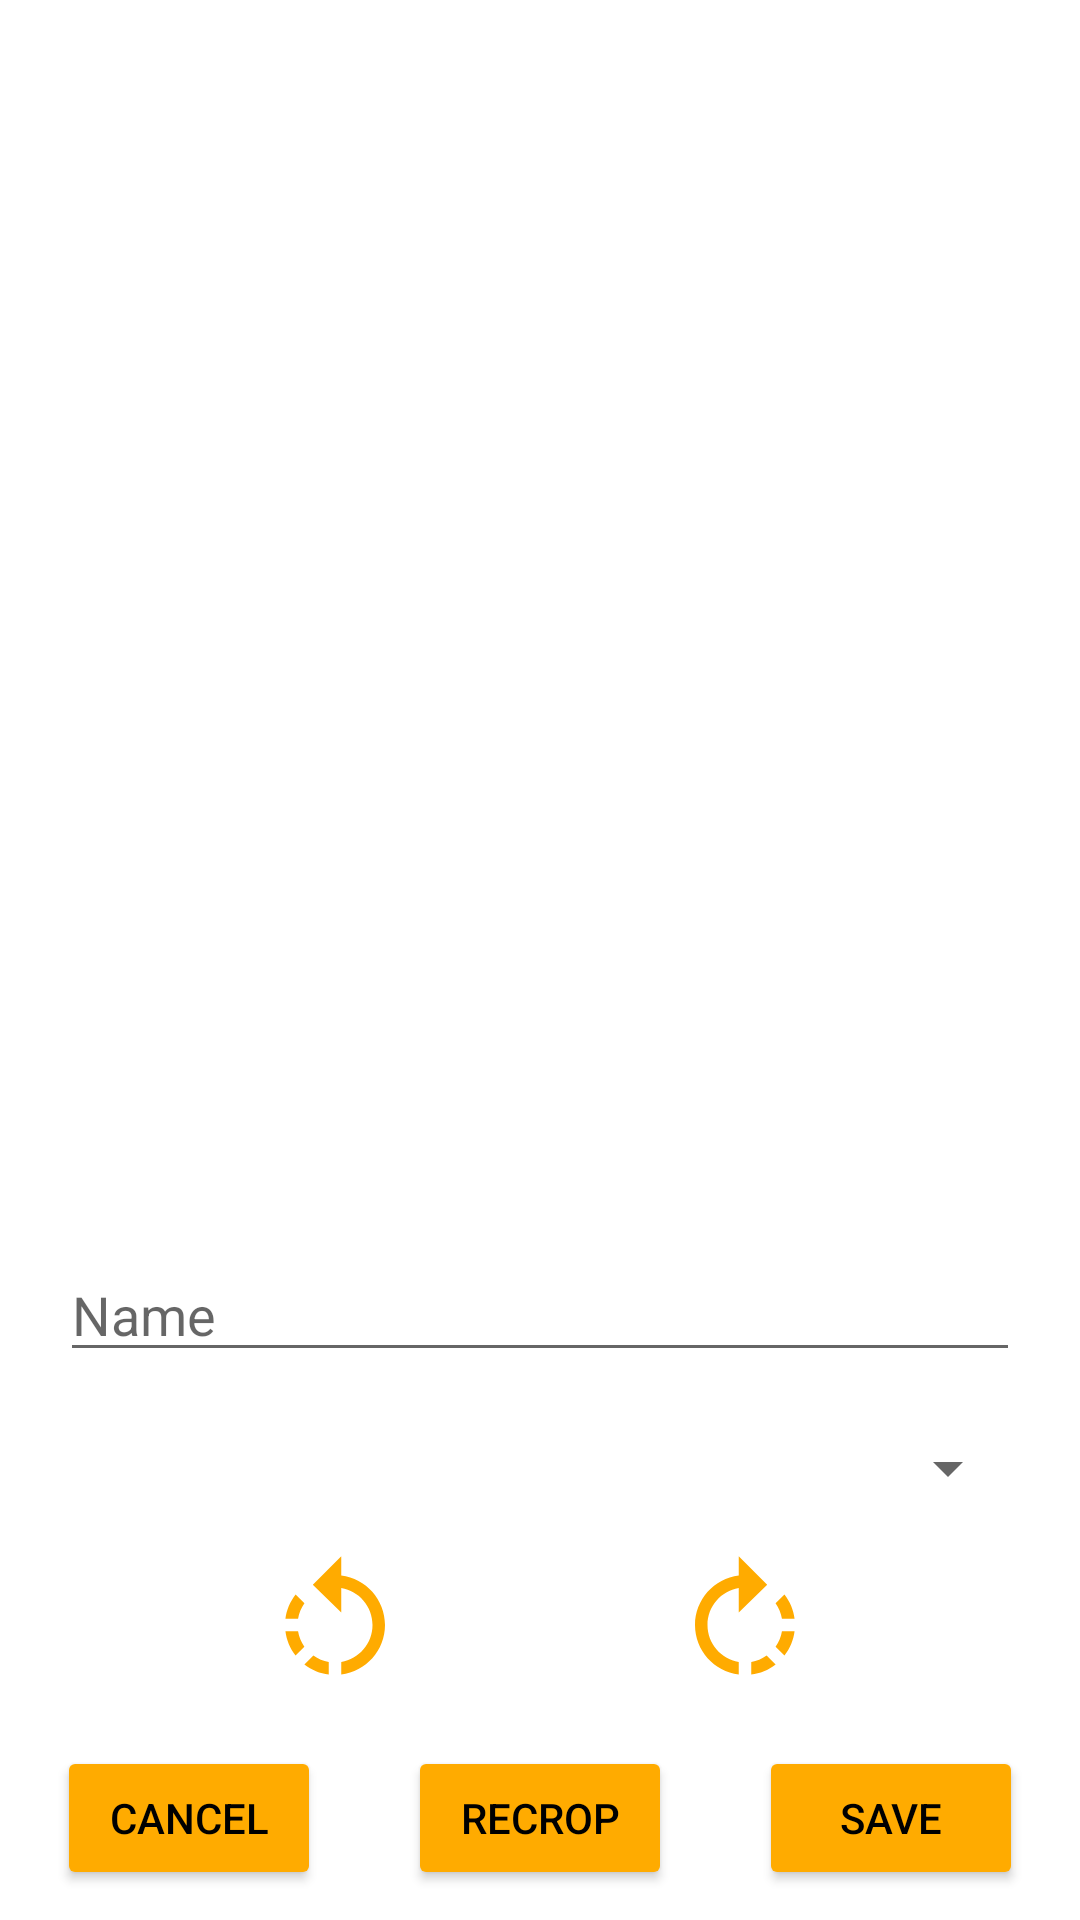

Where to tap for icons on this 1080px×1920px app screen, as point (x, y):
rotate left: point (335, 1615)
rotate right: point (745, 1615)
